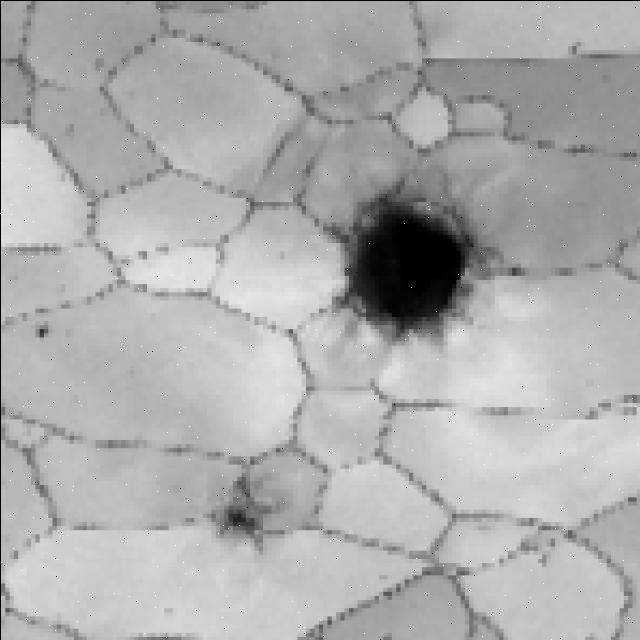good_void: (315, 156, 509, 348), (198, 452, 293, 560), (33, 321, 51, 343)
